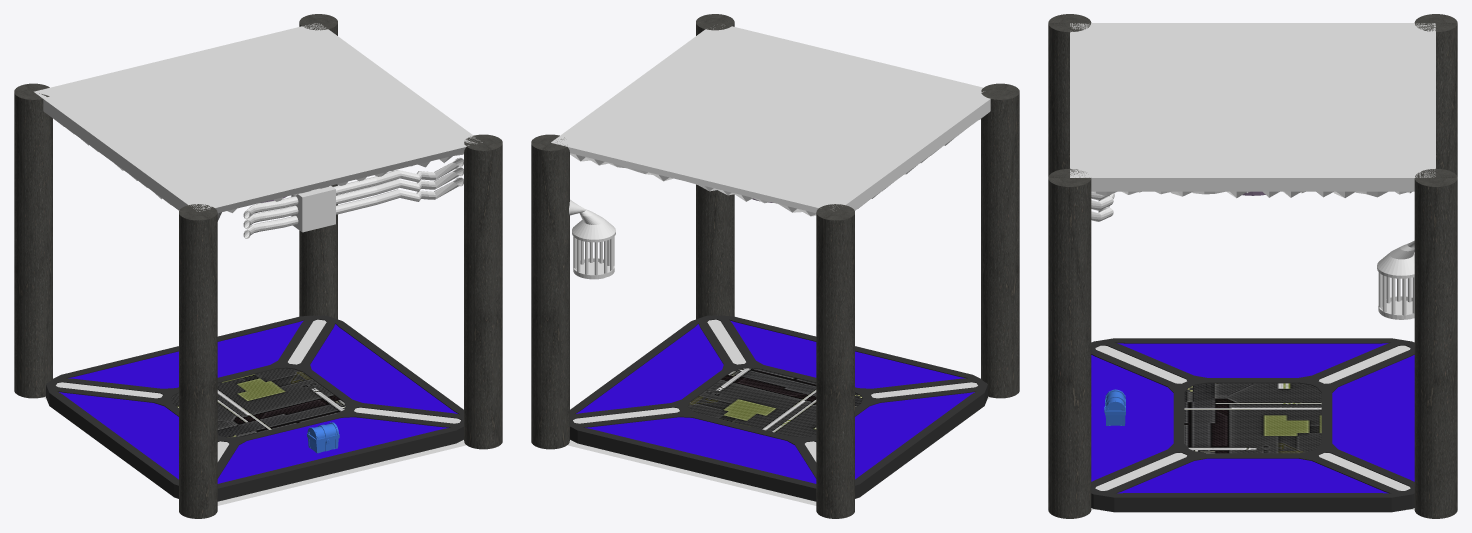
File: Trap_Tunnel_Type1.fbx
3 renders of one model, left to right at view 1: azimuth 30°, elevation 25°; view 2: azimuth 150°, elevation 25°; view 3: azimuth 270°, elevation 25°, orthographic. The views are drawn at different scales.
Visible parts, largest first — view 1: Cube.005, pipe; view 2: Cube.005, Lamp2.001; view 3: Cube.005, Lamp2.001, pipe.
Part boxes in pixels (x1,y1,x2,y2): Cube.005: [14, 14, 502, 518]; pipe: [243, 157, 463, 238]; Cube.005: [531, 14, 1019, 518]; Lamp2.001: [569, 199, 615, 279]; Cube.005: [1048, 14, 1457, 518]; Lamp2.001: [1377, 240, 1414, 319]; pipe: [1091, 191, 1114, 221].
Size of the model in its own units: 1900 by 1701 by 1900.
